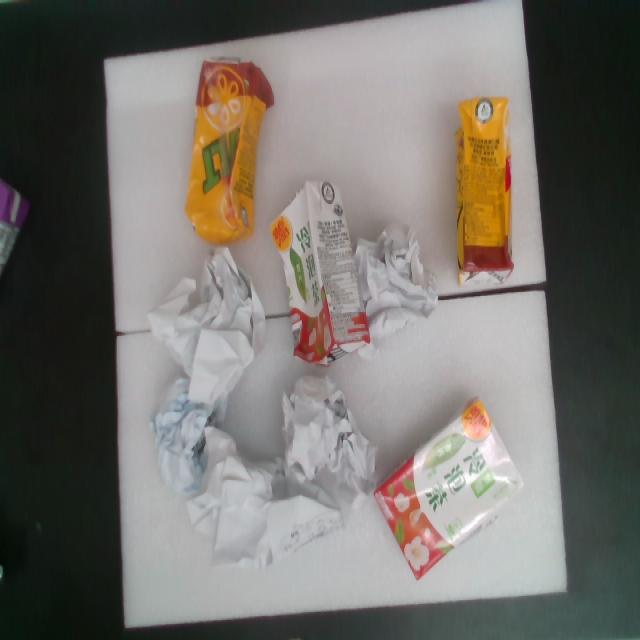juicebox: (340, 384, 559, 596), (232, 161, 394, 395), (170, 43, 282, 257), (450, 83, 516, 293)
paper: (130, 342, 407, 598), (108, 225, 319, 438), (337, 204, 453, 368), (143, 366, 228, 502)
